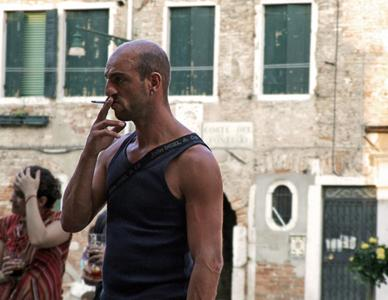person: (58, 41, 227, 300)
